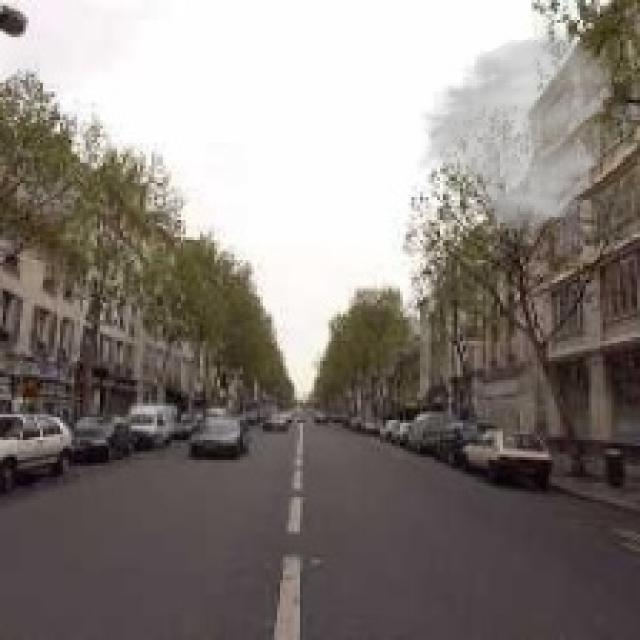smoke: (414, 29, 617, 234)
